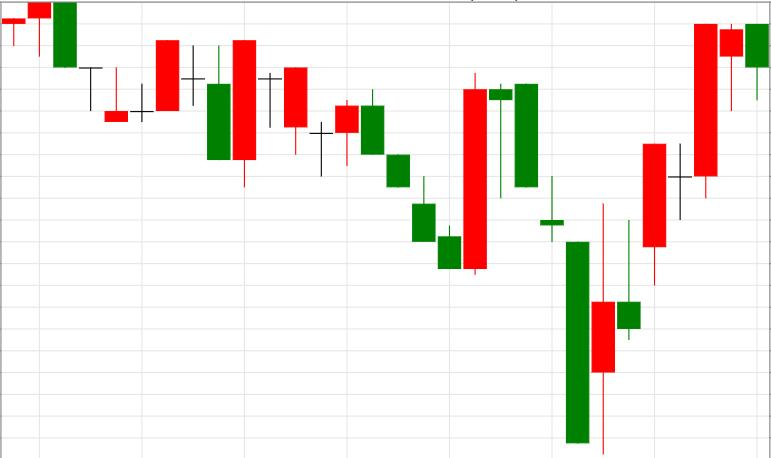bullish_engulfing_rise: (362, 72, 487, 275)
